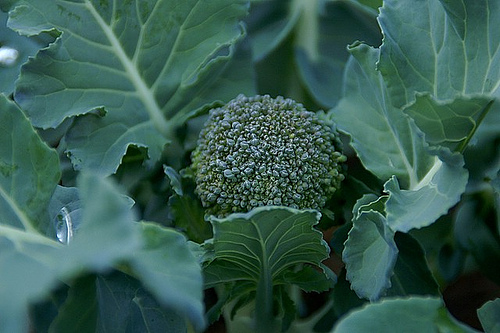broccoli: (186, 88, 348, 214)
